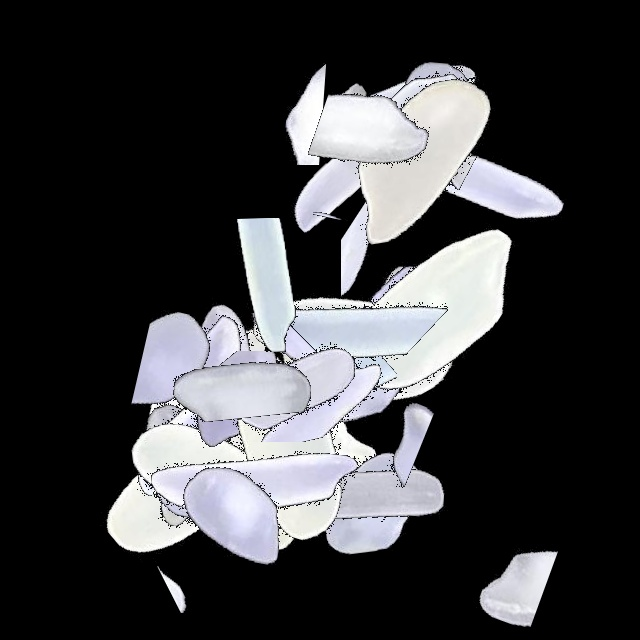Broken: (142, 218, 392, 390), (219, 211, 469, 381), (63, 258, 313, 427), (273, 62, 523, 227), (189, 372, 352, 622), (240, 278, 397, 528), (138, 351, 388, 507), (54, 304, 304, 450), (165, 219, 311, 469), (85, 304, 335, 445), (362, 5, 495, 255), (304, 0, 554, 130), (169, 312, 419, 442), (327, 0, 452, 250), (341, 133, 465, 383), (363, 509, 613, 627), (139, 48, 389, 165), (287, 280, 537, 393), (129, 313, 379, 424), (241, 384, 491, 491), (156, 344, 406, 450), (126, 409, 376, 513), (318, 279, 568, 372), (395, 14, 480, 264), (82, 529, 332, 613), (313, 56, 395, 306), (299, 230, 379, 480)
Full: (174, 305, 424, 555), (66, 356, 316, 606), (143, 295, 393, 545), (92, 318, 342, 568), (284, 206, 534, 456), (278, 195, 528, 445), (97, 337, 347, 587), (58, 338, 308, 588), (230, 219, 480, 469), (88, 284, 338, 534), (243, 248, 493, 498), (86, 299, 336, 549), (311, 0, 561, 250), (248, 379, 498, 629), (310, 181, 560, 431), (337, 52, 587, 302), (89, 364, 339, 614), (247, 368, 497, 618), (247, 20, 497, 270), (300, 36, 550, 286), (127, 354, 377, 604), (167, 259, 417, 509), (108, 390, 358, 640)
